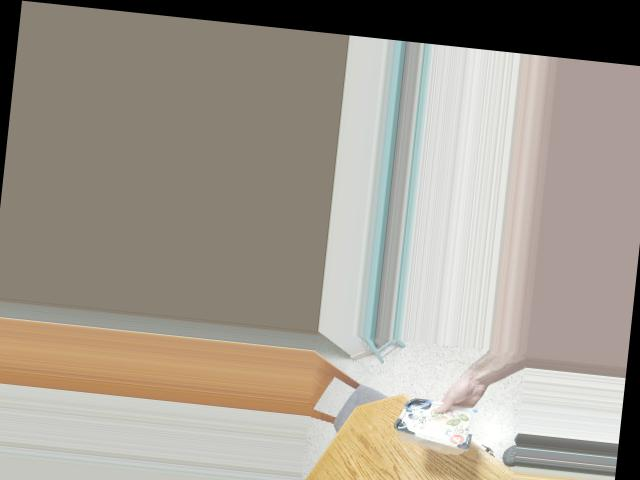cheese: (396, 388, 475, 451)
